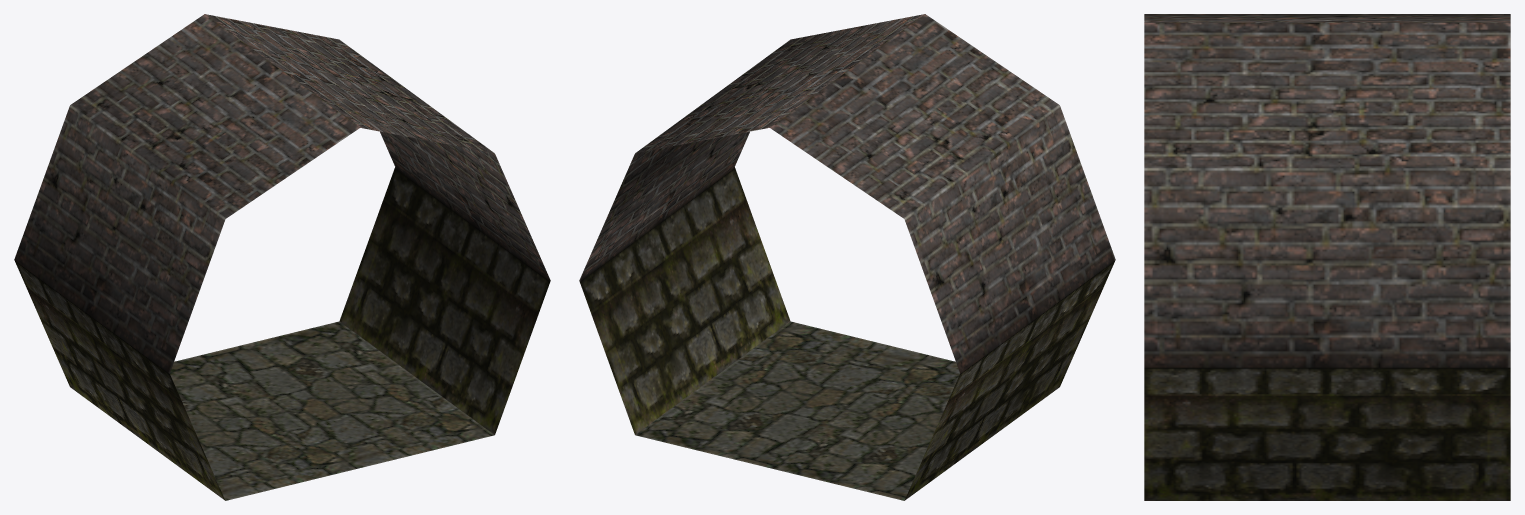
File: sewer-front.glb
The picture shows the model from 3 angles, left to right: view 1: azimuth 30°, elevation 25°; view 2: azimuth 150°, elevation 25°; view 3: azimuth 270°, elevation 25°; orthographic projection. The views are drawn at different scales.
Parts seen in each view (by area): view 1: SewerSection_Straight.003; view 2: SewerSection_Straight.003; view 3: SewerSection_Straight.003.
Part boxes in pixels (x1=…): SewerSection_Straight.003: x1=14, y1=14, x2=550, y2=500; SewerSection_Straight.003: x1=579, y1=14, x2=1115, y2=500; SewerSection_Straight.003: x1=1144, y1=14, x2=1510, y2=500.
Size of the model in its own units: 2.45 by 2.09 by 1.73.
2 materials, 2 textured.
